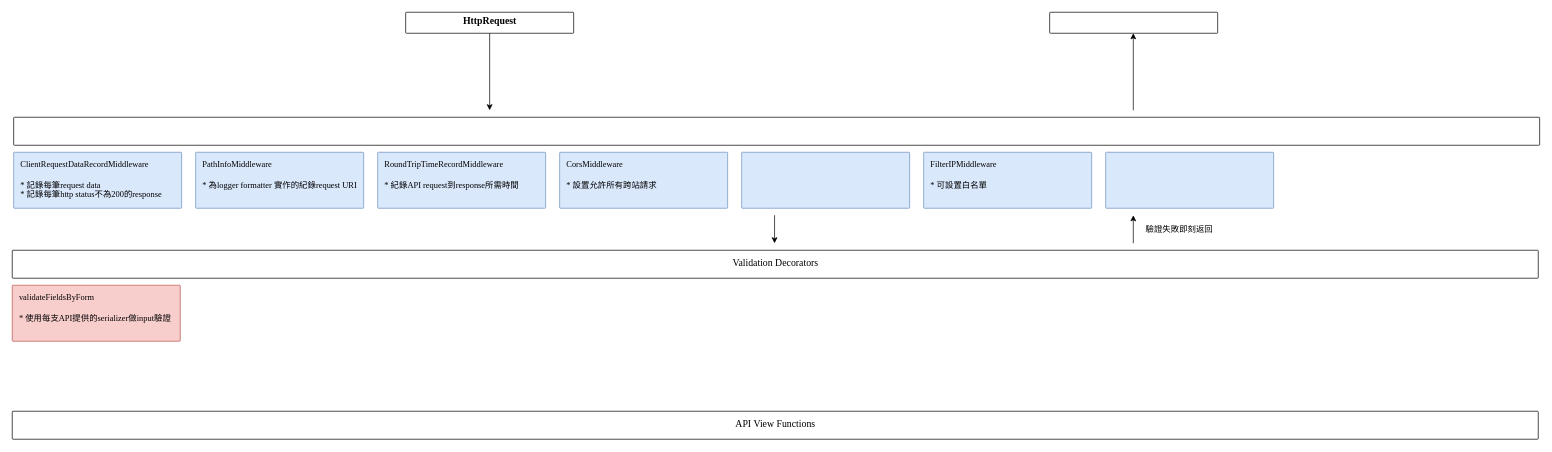
This 1552x452 diagram has some shape labels left out. The centre of each missing label's shape, as x and y in pixels:
A8 Middlewares: point 776,131
APImanager * 控制API使用限制: point 1189,180
HttpResponse: point 1133,22
RequestIDMiddleware * 為logger實作的紀錄每次API request所產生 的process id: point 825,180
